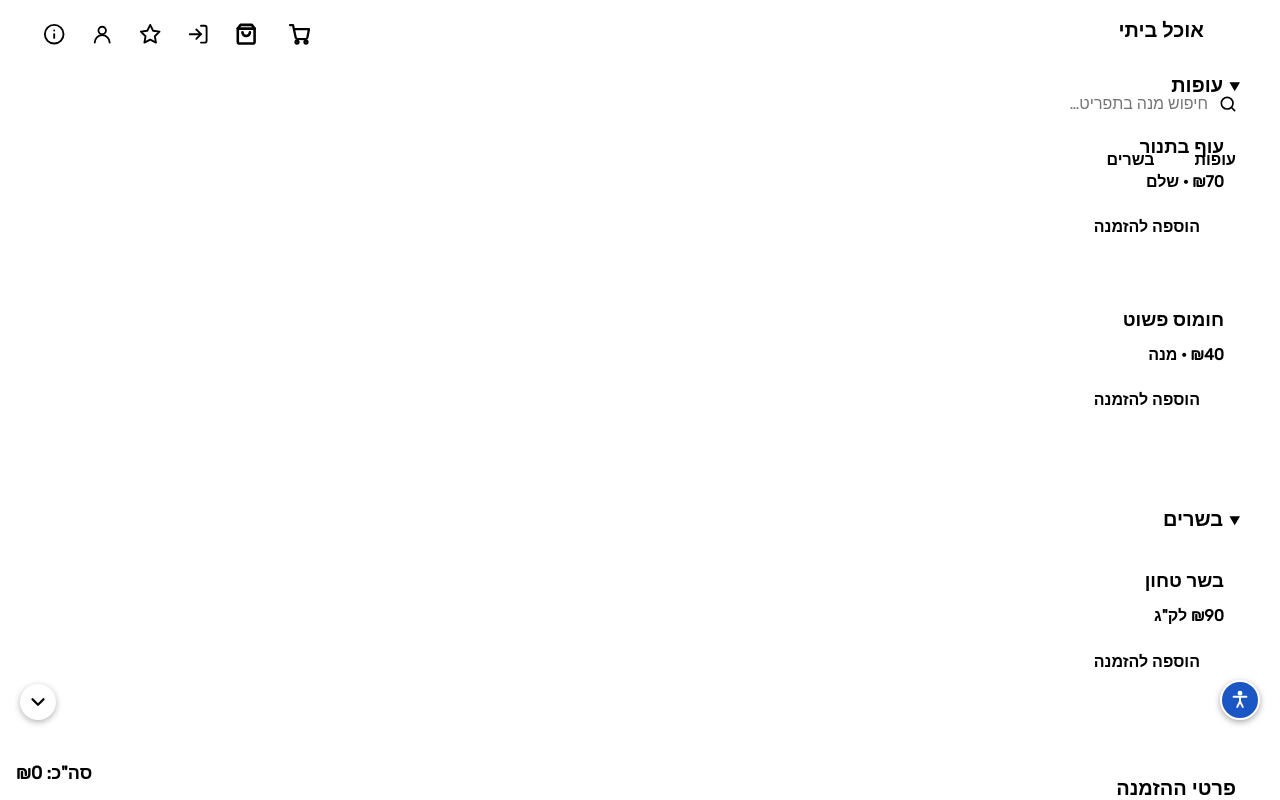
Test case: Sending the order: classic style, page flow, total at bottom › sends a valid order
(page scrolled)
Click the button with aria-label "הוספה להזמנה: חומוס פשוט".
click(1147, 400)  # box [1074,378,1220,423]
(page scrolled)
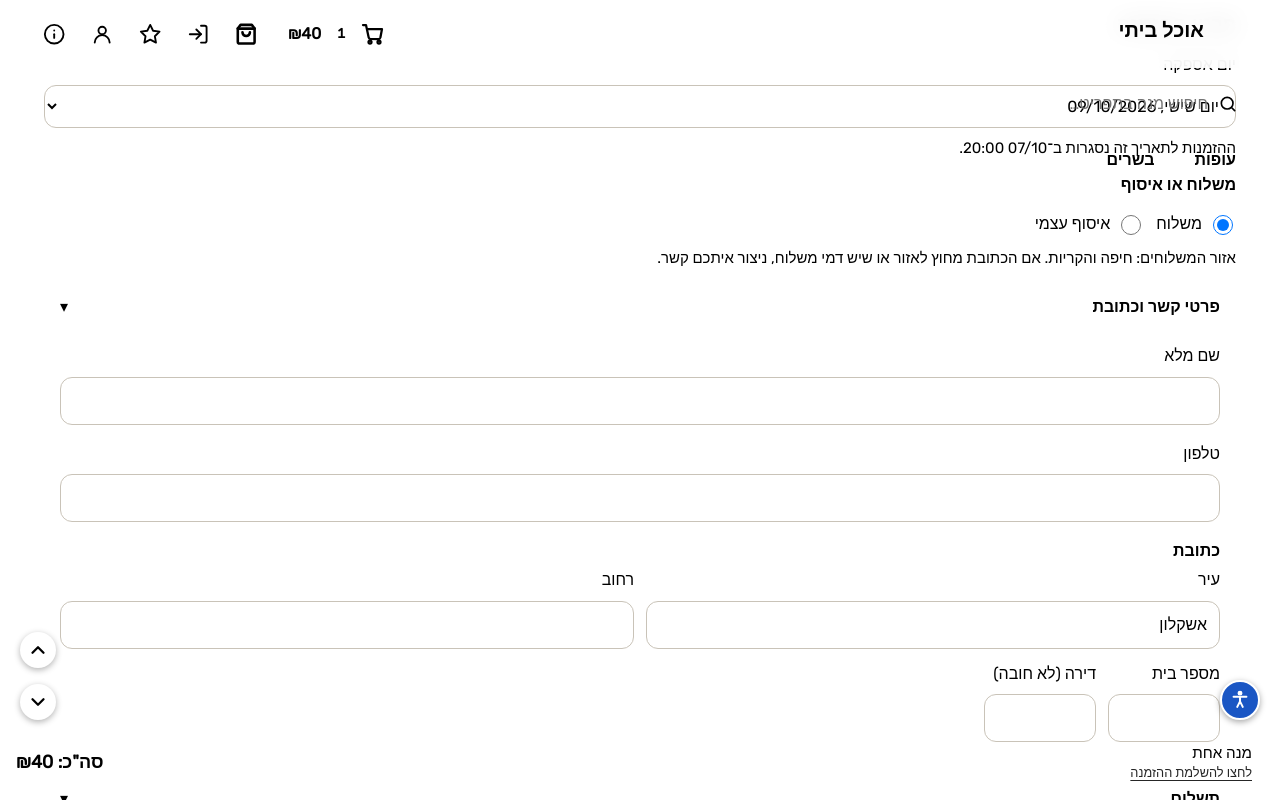
Type "דנה" into the field labelled "שם מלא".
click(640, 401); type("דנה")  # box [60,377,1220,425]
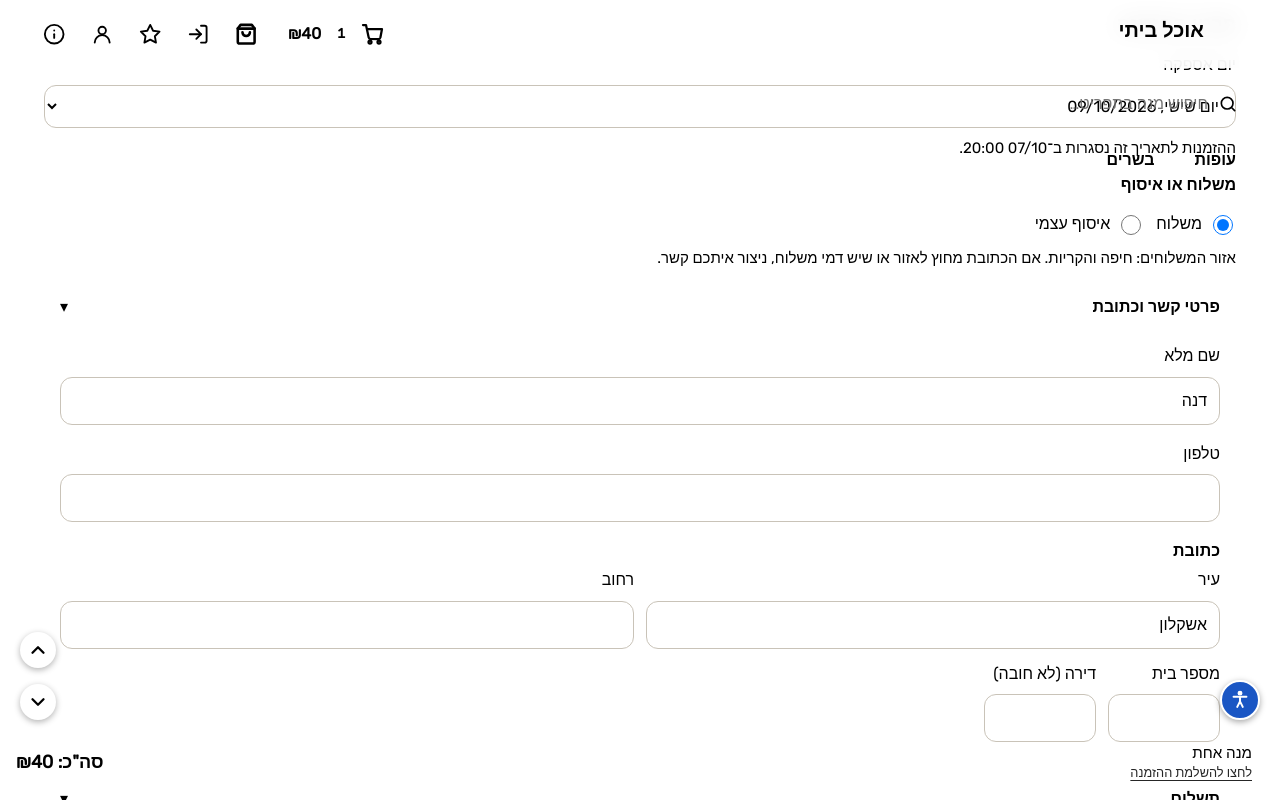
Type "הרצל" into the field labelled "רחוב".
click(347, 625); type("הרצל")  # box [60,601,634,649]
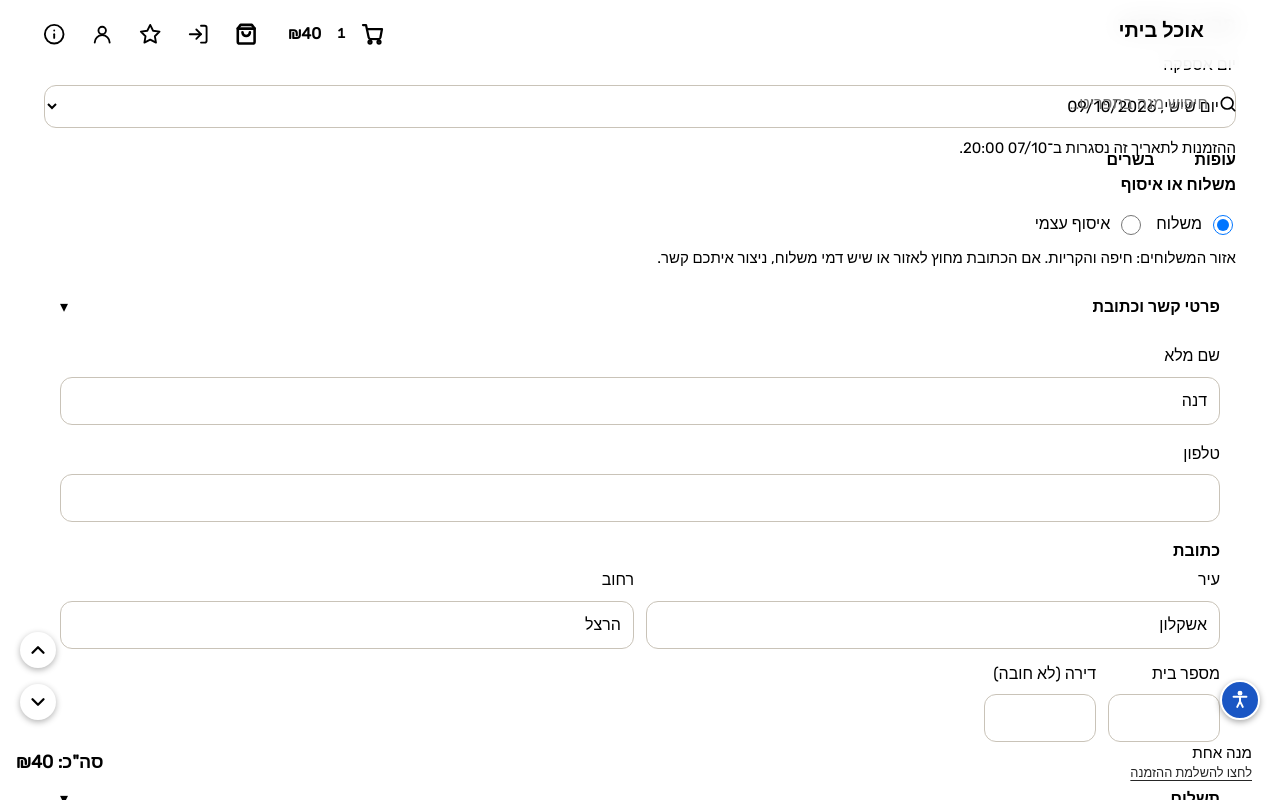
Type "1" into the field labelled "מספר בית".
click(1164, 718); type("1")  # box [1108,694,1220,742]
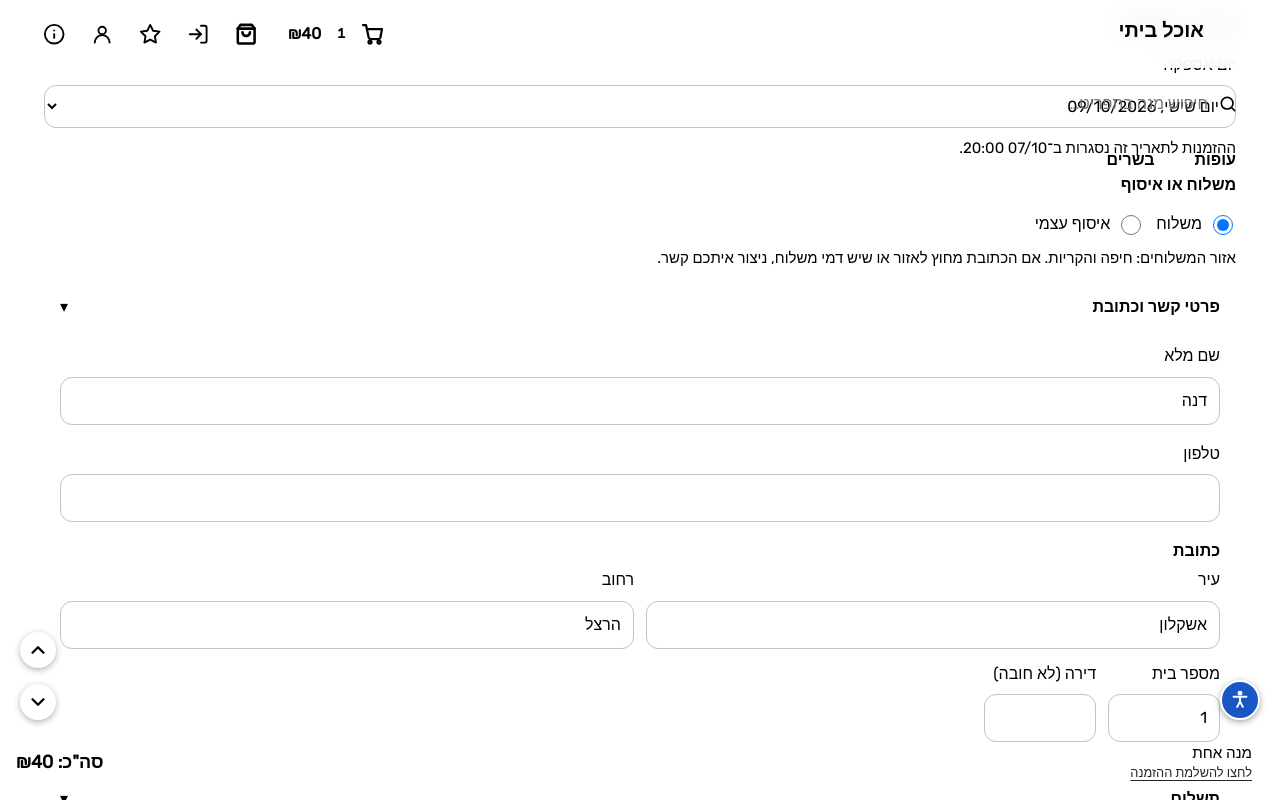
Type "050-123-4567" into the field labelled "טלפון".
click(640, 498); type("050-123-4567")  # box [60,474,1220,522]
(page scrolled)
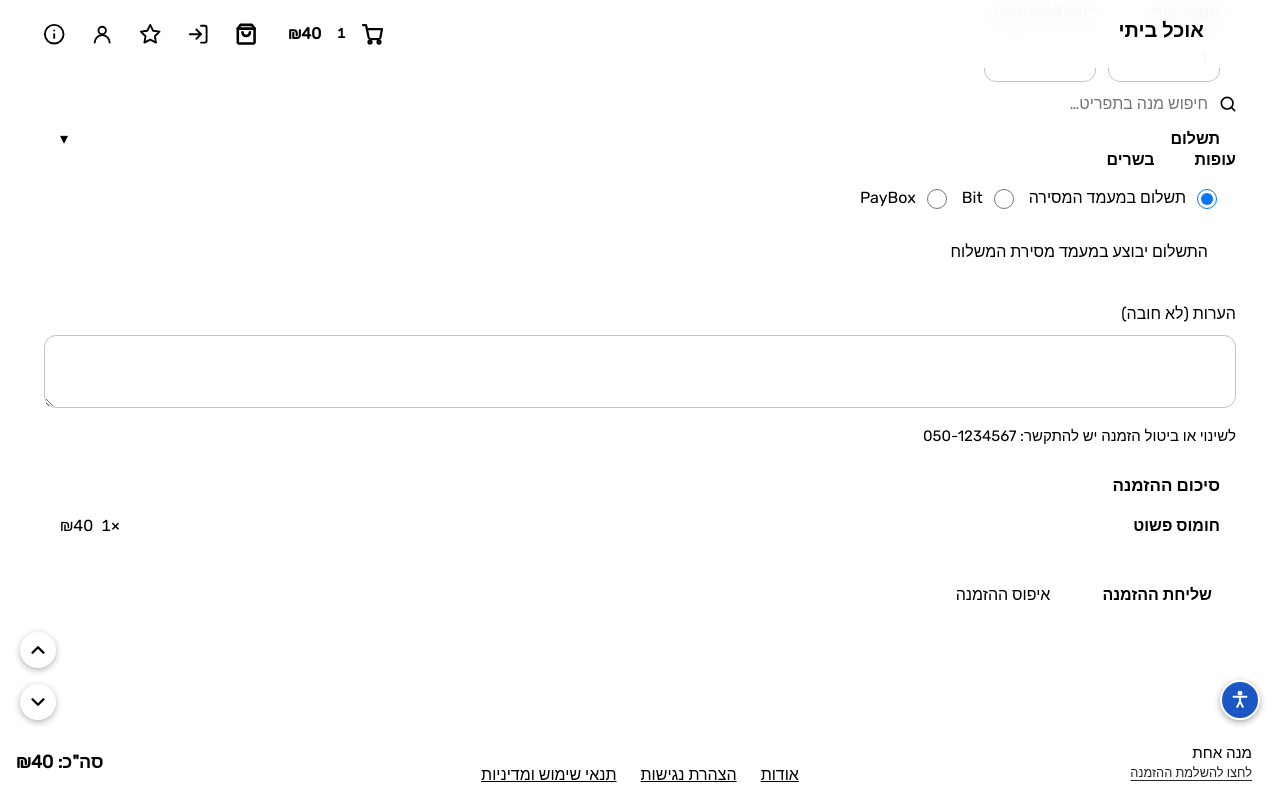
Click the button "שליחת ההזמנה".
click(1157, 595)  # box [1082,572,1232,618]
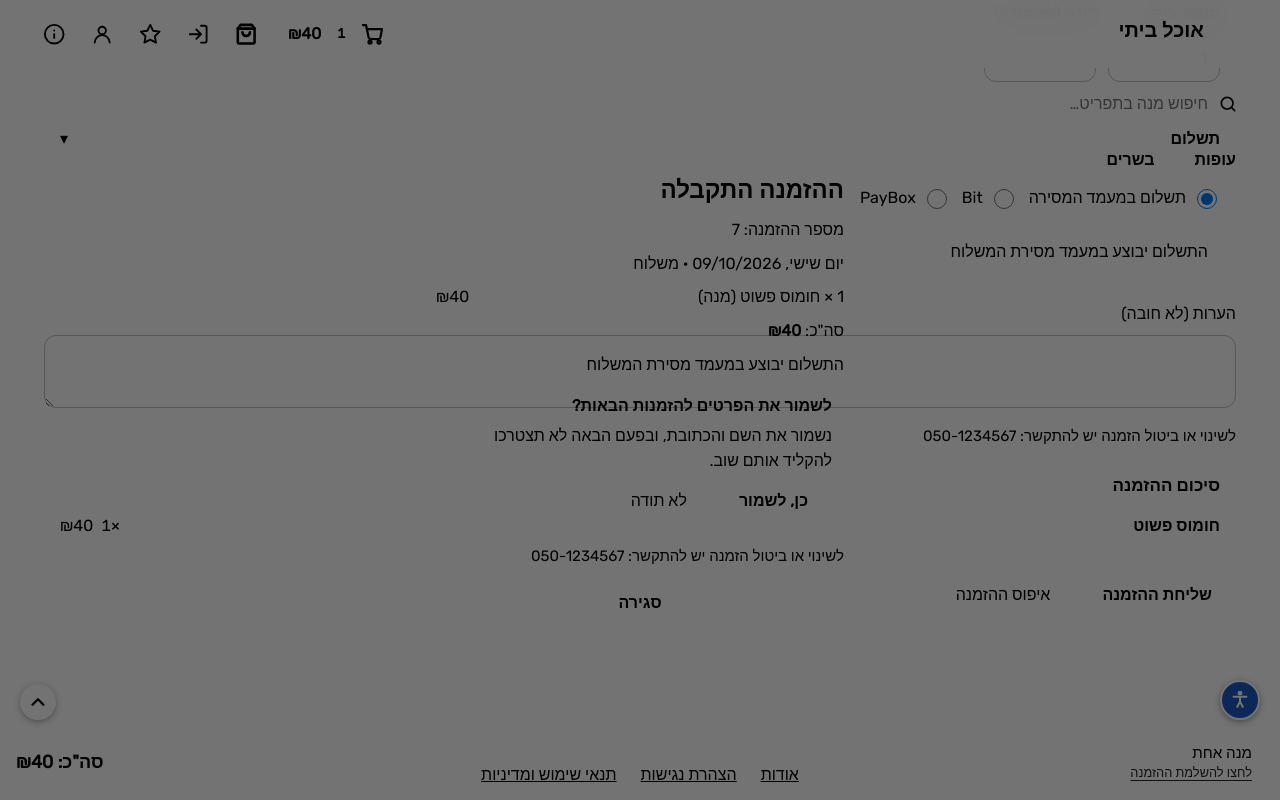
Check: the dialog "ההזמנה התקבלה" is shown, box [416,151,864,649]
